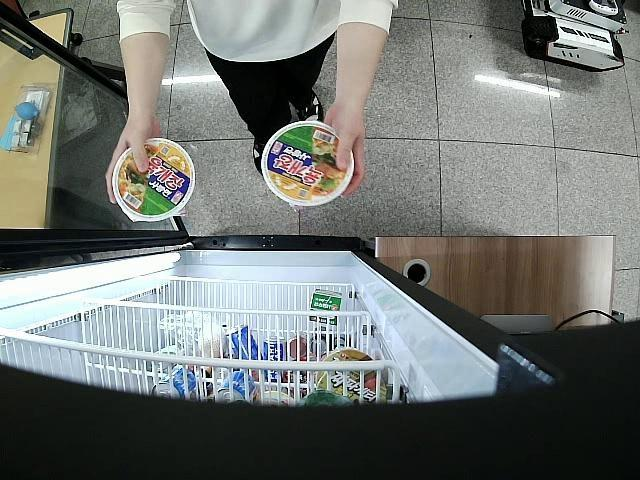09_yukGaeJang: (261, 120, 354, 207), (112, 138, 196, 223)
